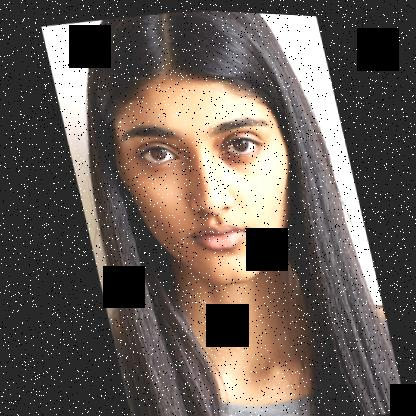Female: (94, 53, 314, 298)
